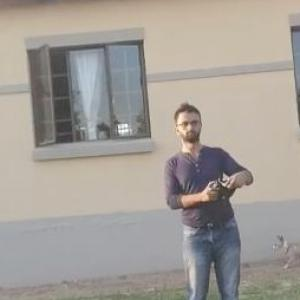follow: (158, 91, 261, 299)
null: (261, 222, 299, 272)
